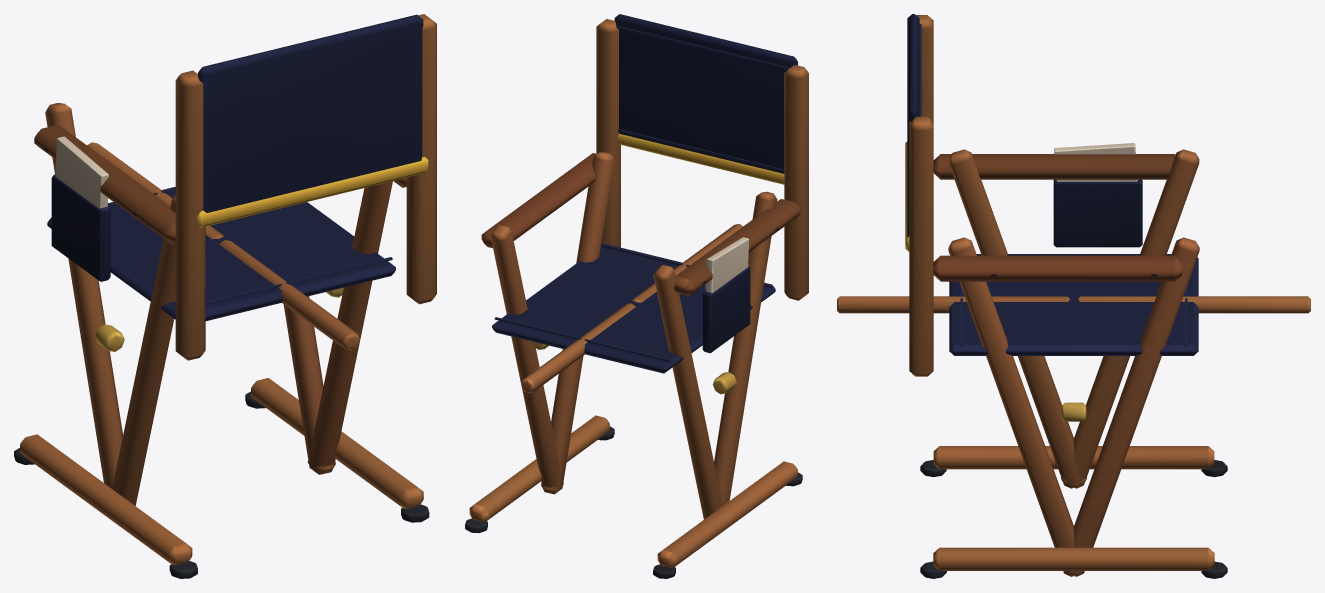
File: SM_Office_DirectorsChair.fbx
3 renders of one model, left to right at view 1: azimuth 30°, elevation 25°; view 2: azimuth 150°, elevation 25°; view 3: azimuth 270°, elevation 25°, orthographic. The views are drawn at different scales.
Visible parts, largest first — view 1: SM_Office_DirectorsChair; view 2: SM_Office_DirectorsChair; view 3: SM_Office_DirectorsChair.
Boxes of the visible parts, x1=… form: SM_Office_DirectorsChair: x1=14, y1=14, x2=436, y2=578; SM_Office_DirectorsChair: x1=465, y1=14, x2=808, y2=578; SM_Office_DirectorsChair: x1=837, y1=14, x2=1310, y2=578.
Bounding box in the file's own units: 68.77 × 129 × 118.
